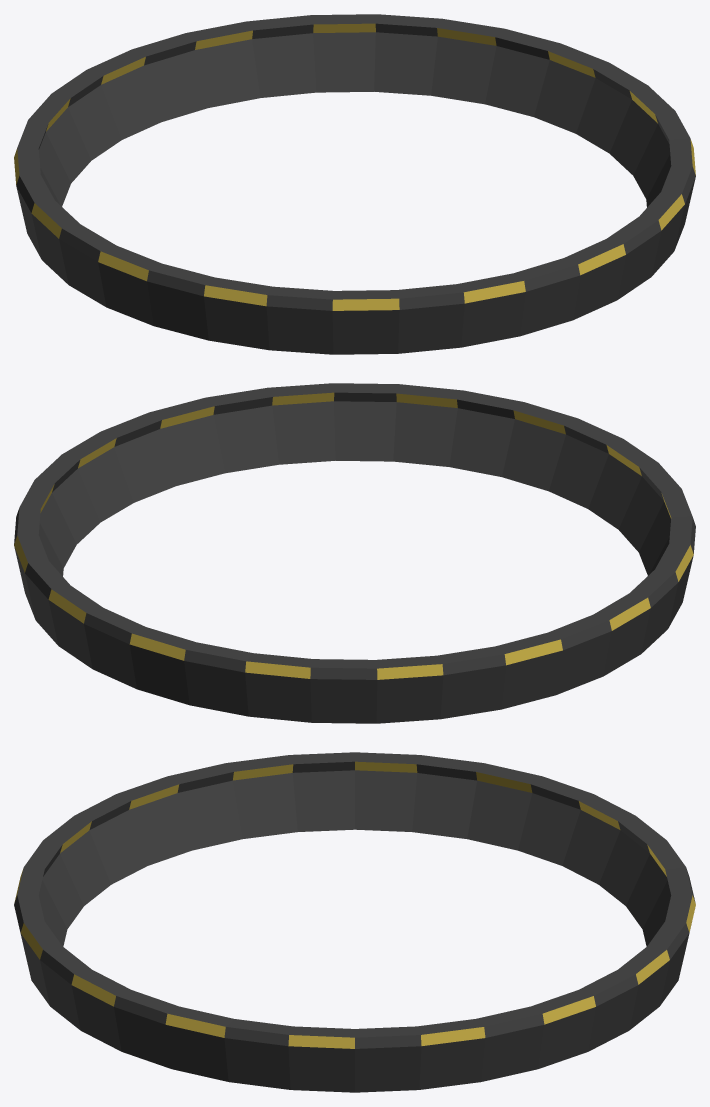
The model's file is ForceField_Foundation.fbx.
3 renders of one model, top to bottom at view 1: azimuth 30°, elevation 25°; view 2: azimuth 150°, elevation 25°; view 3: azimuth 270°, elevation 25°, orthographic.
Parts seen in each view (by area): view 1: ForceField_Foundation; view 2: ForceField_Foundation; view 3: ForceField_Foundation.
Part boxes in pixels (x1=…): ForceField_Foundation: x1=14, y1=14, x2=695, y2=354; ForceField_Foundation: x1=14, y1=383, x2=695, y2=723; ForceField_Foundation: x1=14, y1=752, x2=695, y2=1092.
Size of the model in its own units: 165392 by 15705 by 165392.
